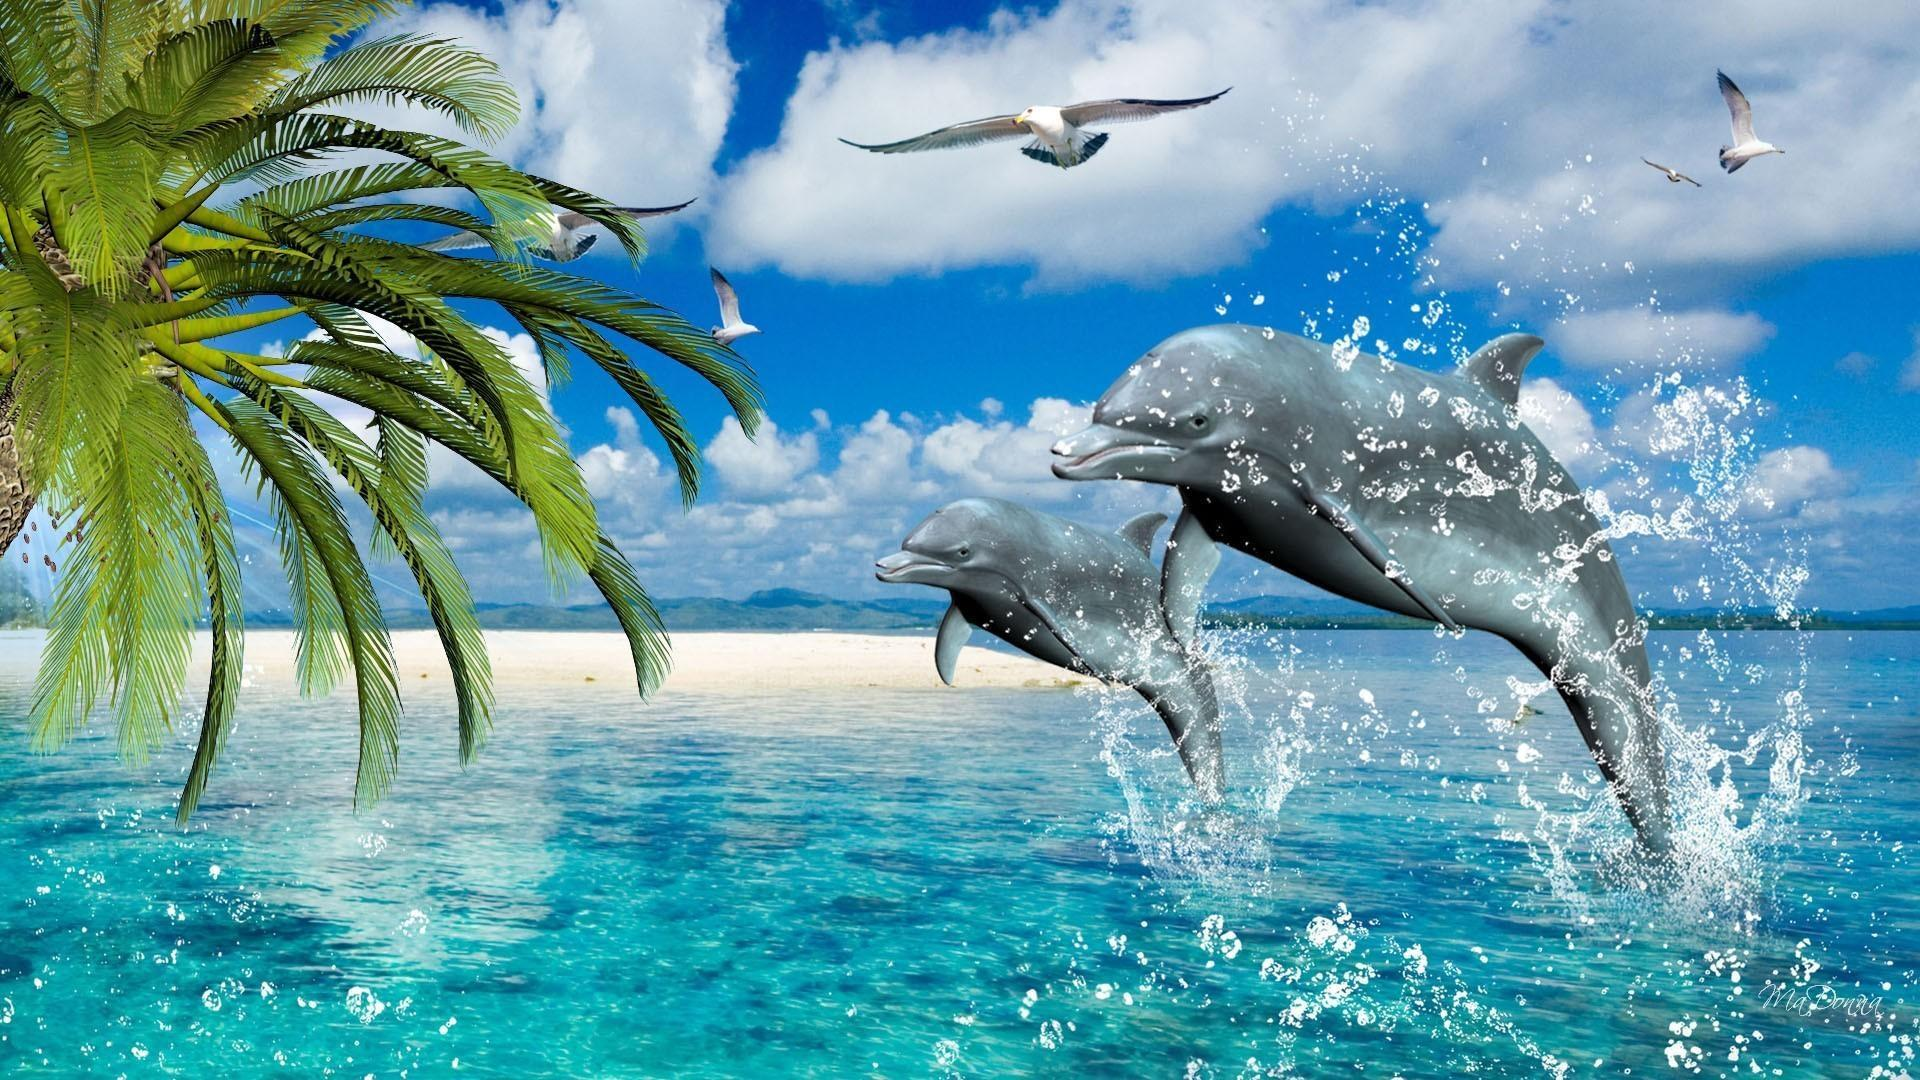bird: (839, 84, 1246, 173), (400, 194, 707, 266), (1712, 67, 1783, 173), (682, 260, 766, 345)
fish: (1040, 331, 1706, 884), (864, 498, 1292, 819)
